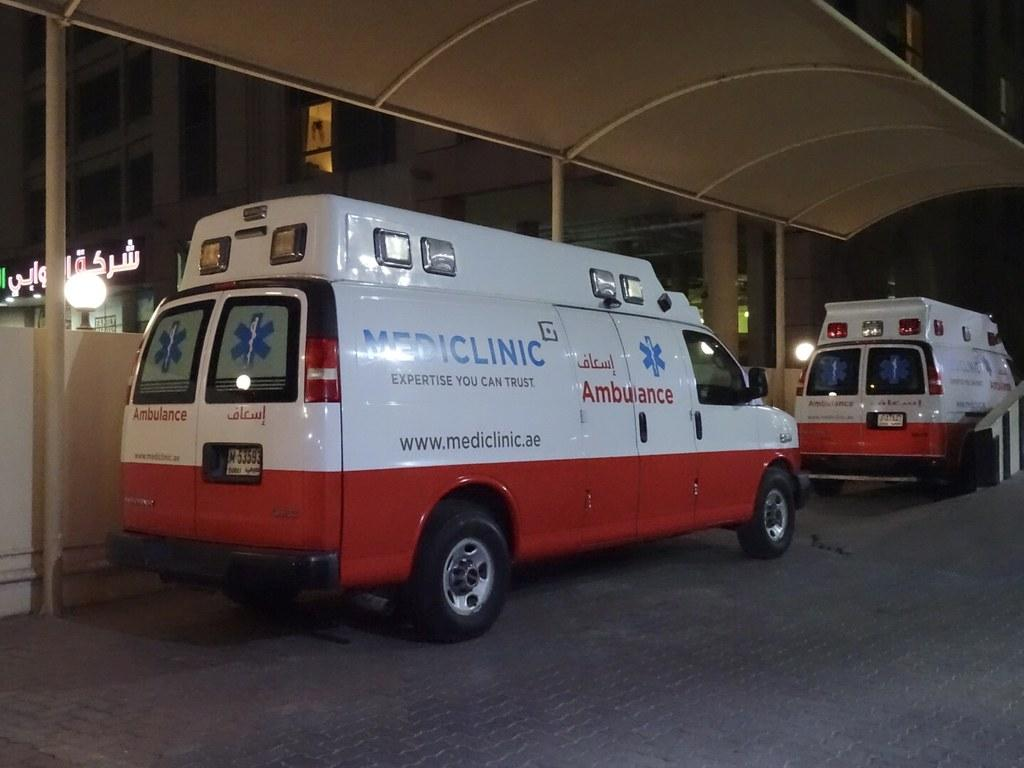ambulance_off: (117, 194, 801, 636), (796, 299, 1018, 498)
